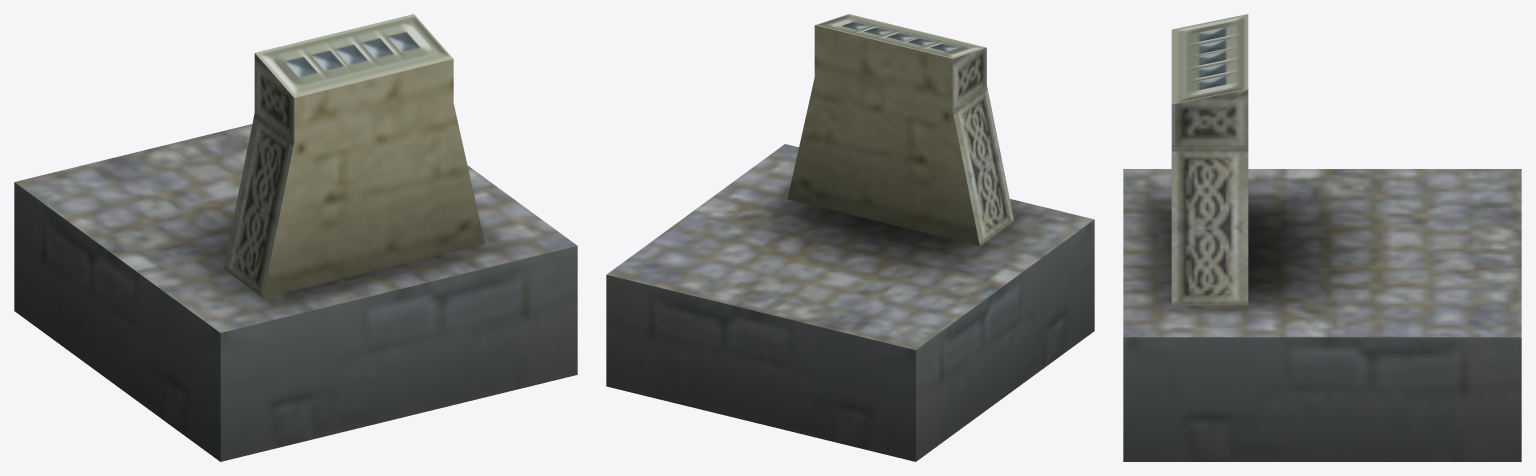
The model's file is med_console.obj.
The picture shows the model from 3 angles, left to right: view 1: azimuth 30°, elevation 25°; view 2: azimuth 150°, elevation 25°; view 3: azimuth 270°, elevation 25°; orthographic projection. The views are drawn at different scales.
Parts seen in each view (by area): view 1: tile_console; view 2: tile_console; view 3: tile_console.
Boxes of the visible parts, x1=… form: tile_console: x1=14, y1=14, x2=577, y2=461; tile_console: x1=606, y1=14, x2=1094, y2=461; tile_console: x1=1123, y1=14, x2=1521, y2=461.
Size of the model in its own units: 1 by 0.903 by 1.
1 material, 1 textured.
